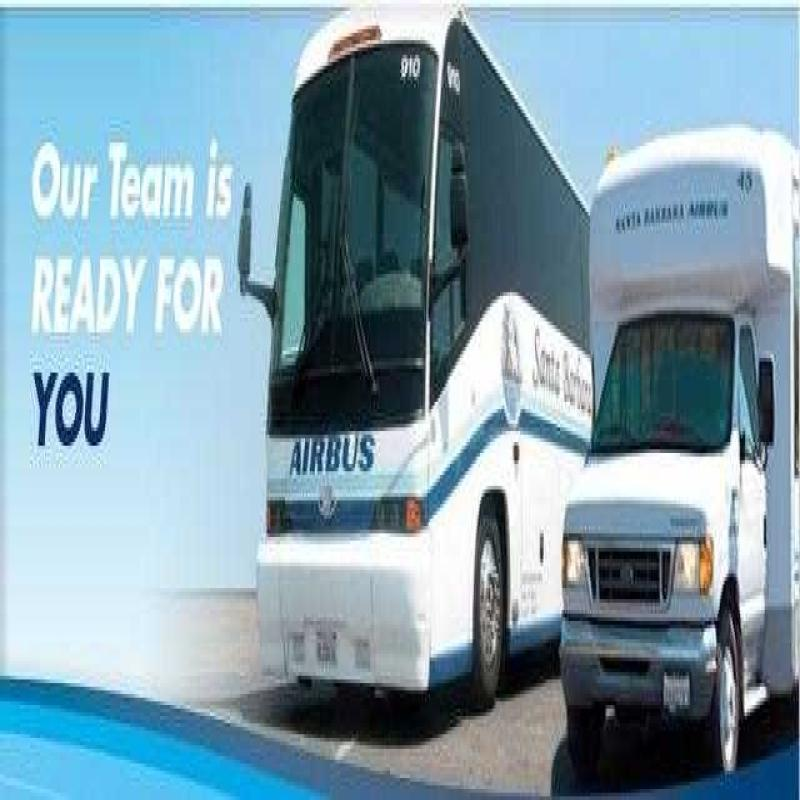bus: (254, 48, 532, 713)
